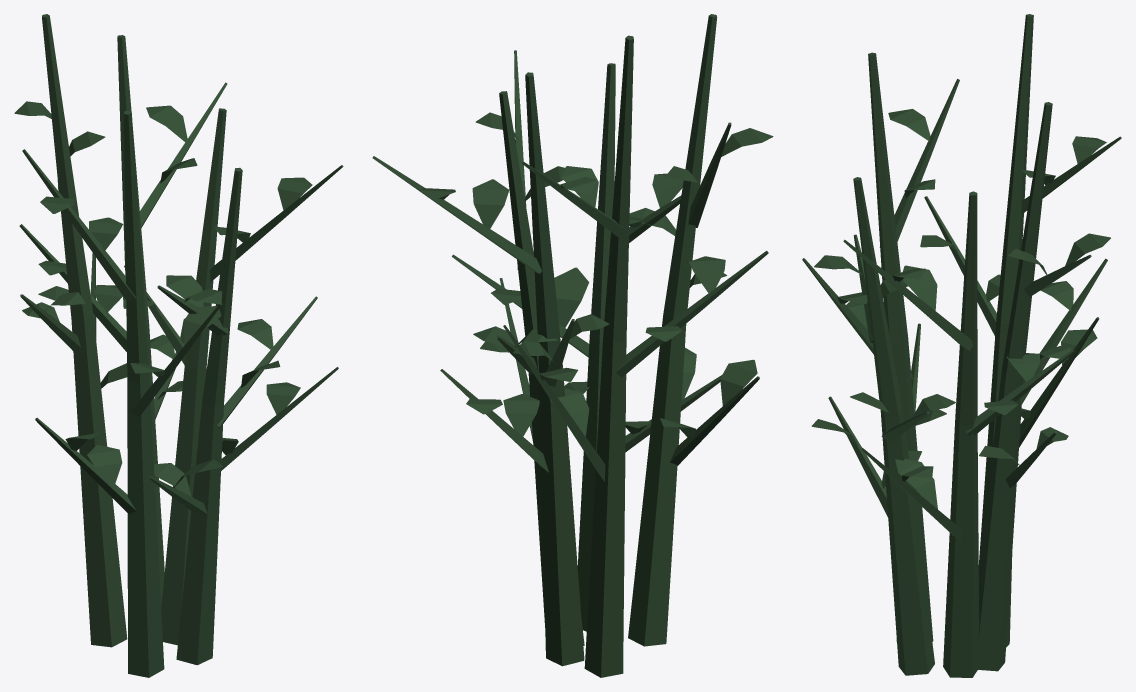
File: plant_011a_branching_waterweed.glb
3 views of the same model, side by side, from view 1: azimuth 30°, elevation 25°; view 2: azimuth 150°, elevation 25°; view 3: azimuth 270°, elevation 25° (orthographic). The views are drawn at different scales.
Visible parts, largest first — view 1: plant_011a_branching_waterweed__stems, plant_011a_branching_waterweed__leaf_clusters; view 2: plant_011a_branching_waterweed__stems, plant_011a_branching_waterweed__leaf_clusters; view 3: plant_011a_branching_waterweed__stems, plant_011a_branching_waterweed__leaf_clusters.
Part boxes in pixels (<box>): plant_011a_branching_waterweed__stems: <box>19,14,343,677</box>; plant_011a_branching_waterweed__leaf_clusters: <box>14,101,312,496</box>; plant_011a_branching_waterweed__stems: <box>372,14,768,677</box>; plant_011a_branching_waterweed__leaf_clusters: <box>419,112,773,437</box>; plant_011a_branching_waterweed__stems: <box>802,14,1121,677</box>; plant_011a_branching_waterweed__leaf_clusters: <box>811,109,1110,508</box>.
Bounding box in the file's own units: 0.7867 × 1.57 × 0.7435.
